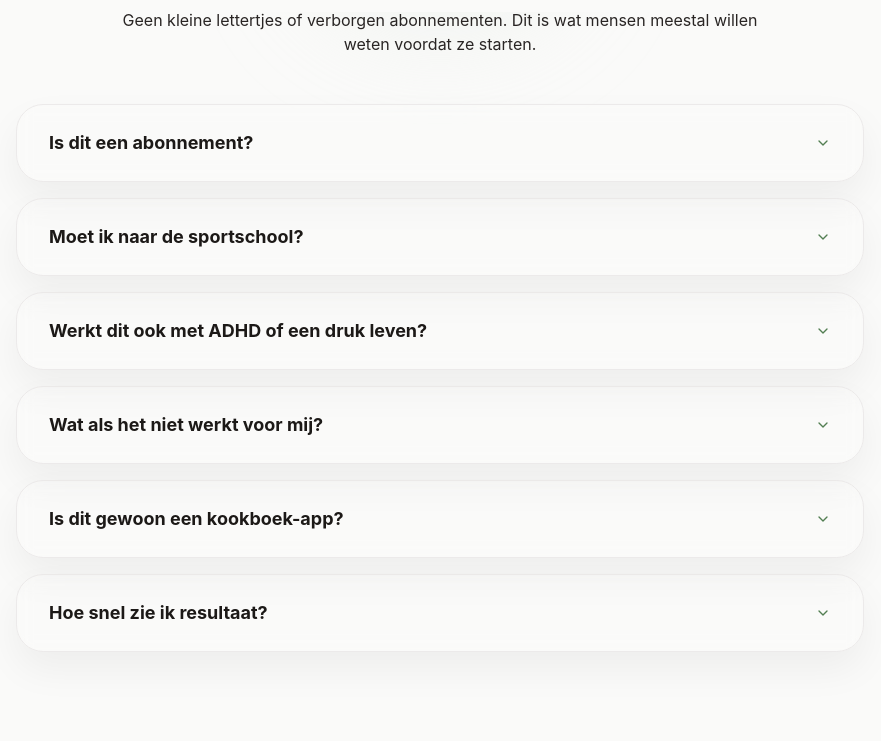
Scenario: FAQSection › toggles answer visibility on click
(page scrolled)
Click the button "Is dit een abonnement?". click: (151, 142)
box: [17,105,863,181]
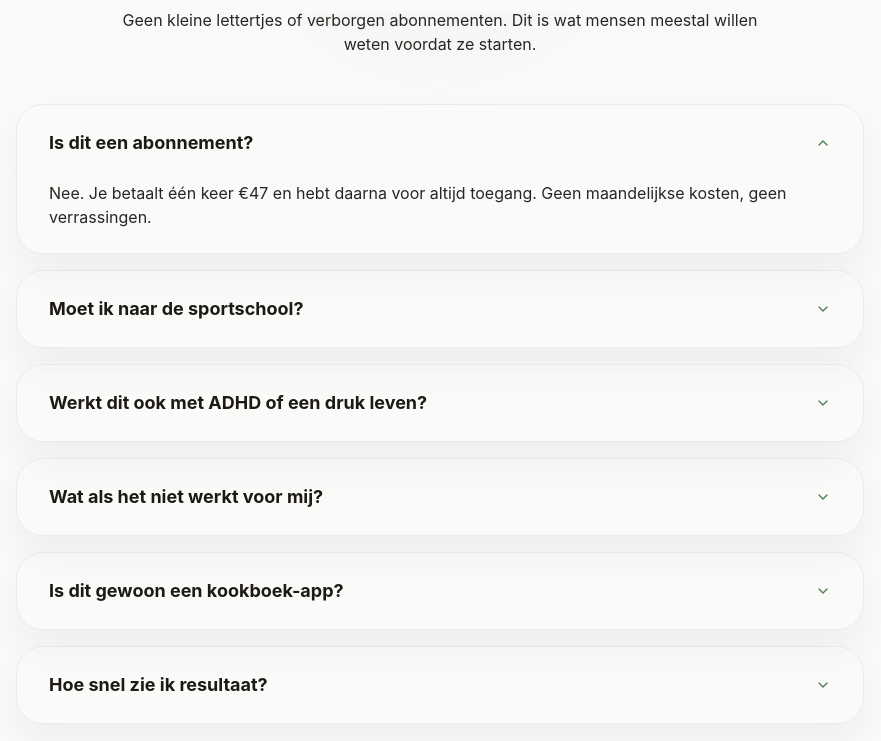
expect the button "Is dit een abonnement?" is expanded: met
expect the text "Je betaalt" is shown: met, box [49,183,786,227]
Click the button "Is dit een abonnement?". click: (151, 142)
box: [17,105,863,181]
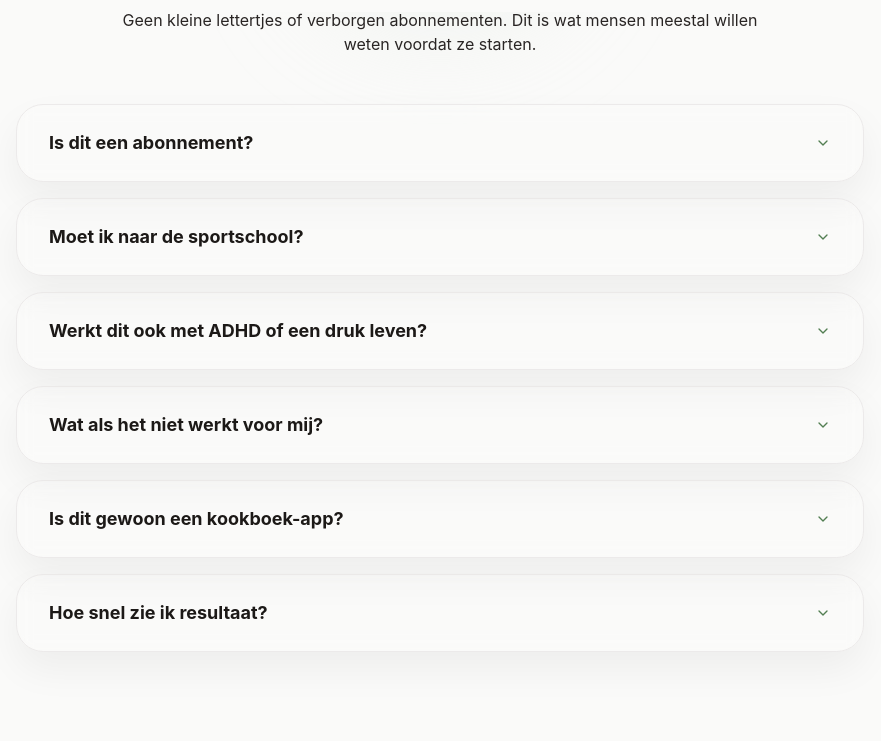
expect the button "Is dit een abonnement?" is collapsed: met, box [17,105,863,181]
